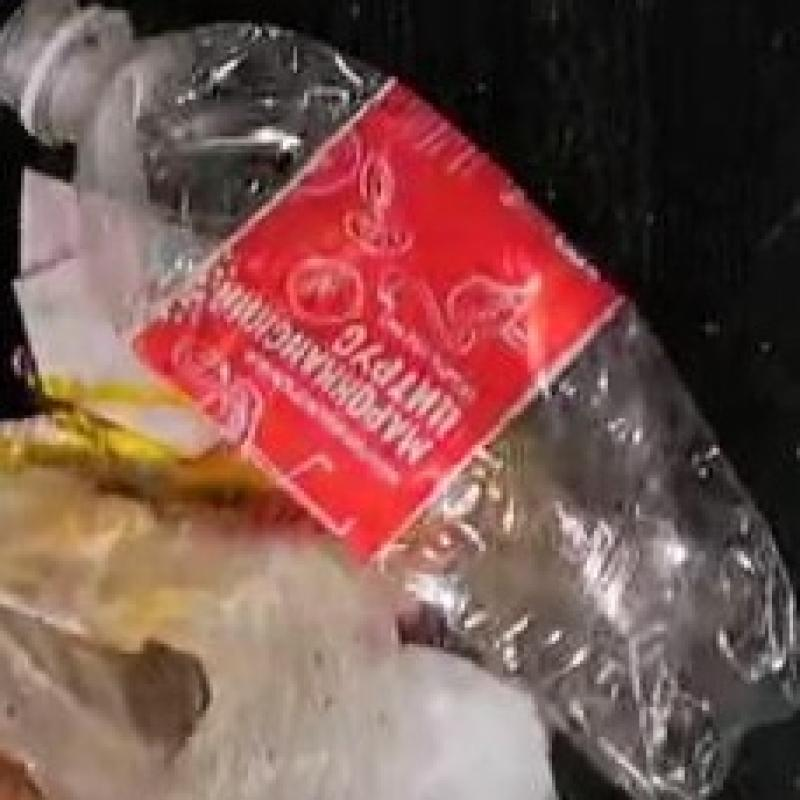botella: (6, 0, 800, 786)
